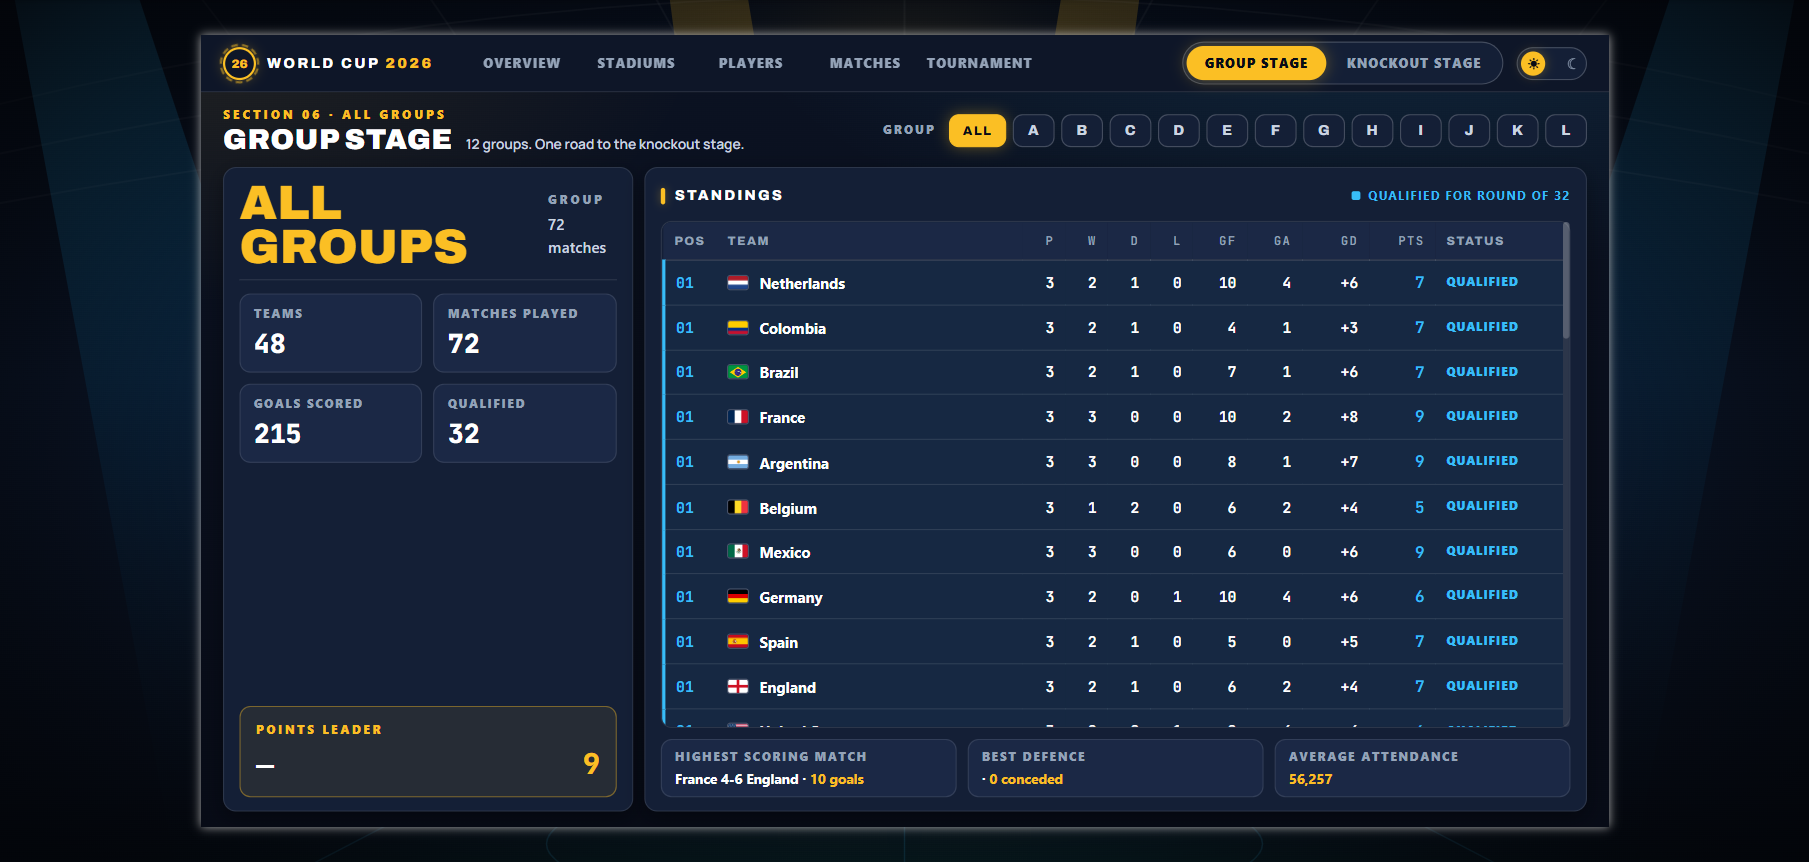

Layout of this report page (visuals, bound fields, positions):
{"tool":"powerbi","page":{"name":"Tournament Page","canvas":[1280,720],"ordinal":5},"visuals":[{"type":"htmlContent443BE3AD55E043BF878BED274D3A6855","fields":{"content":["HTML Visuals.Tournament_Page"]},"box":[0,0,1280,720],"z":0},{"type":"actionButton","title":"Matches","box":[552,0,104,51],"z":2},{"type":"actionButton","title":"Players","box":[448,0,104,51],"z":3},{"type":"actionButton","title":"Stadiums","box":[344,0,104,51],"z":4},{"type":"actionButton","title":"Overview","box":[240,0,104,51],"z":5},{"type":"advancedSlicerVisual","title":"Group Slicer","fields":{"Values":["dim_group.group"]},"box":[738,72,522,30],"z":6}]}

Visuals, with their boxes on the page's 1280x720 design canvas (x1, y1, x2, y2). These are canvas units, not pixel positions in the 1809x862 screenshot, which may show the page scaled, cropped or inside an application window:
htmlContent443BE3AD55E043BF878BED274D3A6855 - HTML Visuals.Tournament_Page: x1=0 y1=0 x2=1280 y2=720
"Matches" actionButton: x1=552 y1=0 x2=656 y2=51
"Players" actionButton: x1=448 y1=0 x2=552 y2=51
"Stadiums" actionButton: x1=344 y1=0 x2=448 y2=51
"Overview" actionButton: x1=240 y1=0 x2=344 y2=51
"Group Slicer" advancedSlicerVisual: x1=738 y1=72 x2=1260 y2=102
